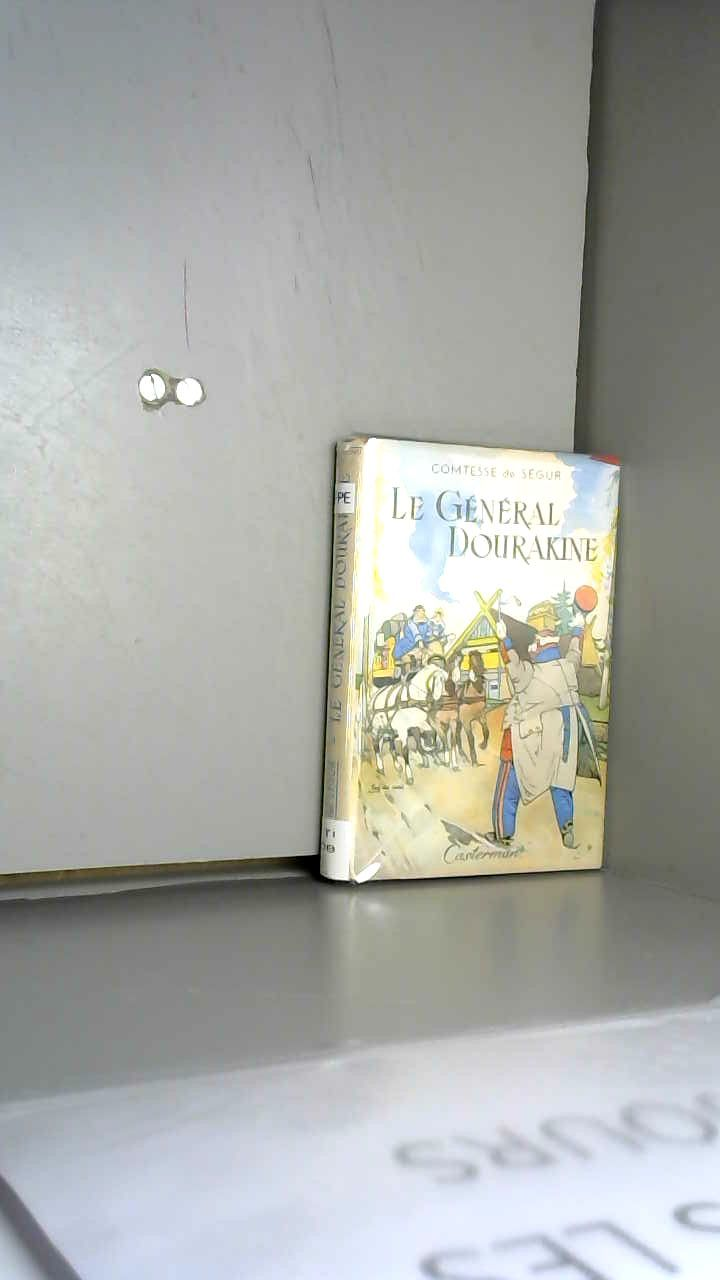book: (290, 400, 717, 909)
